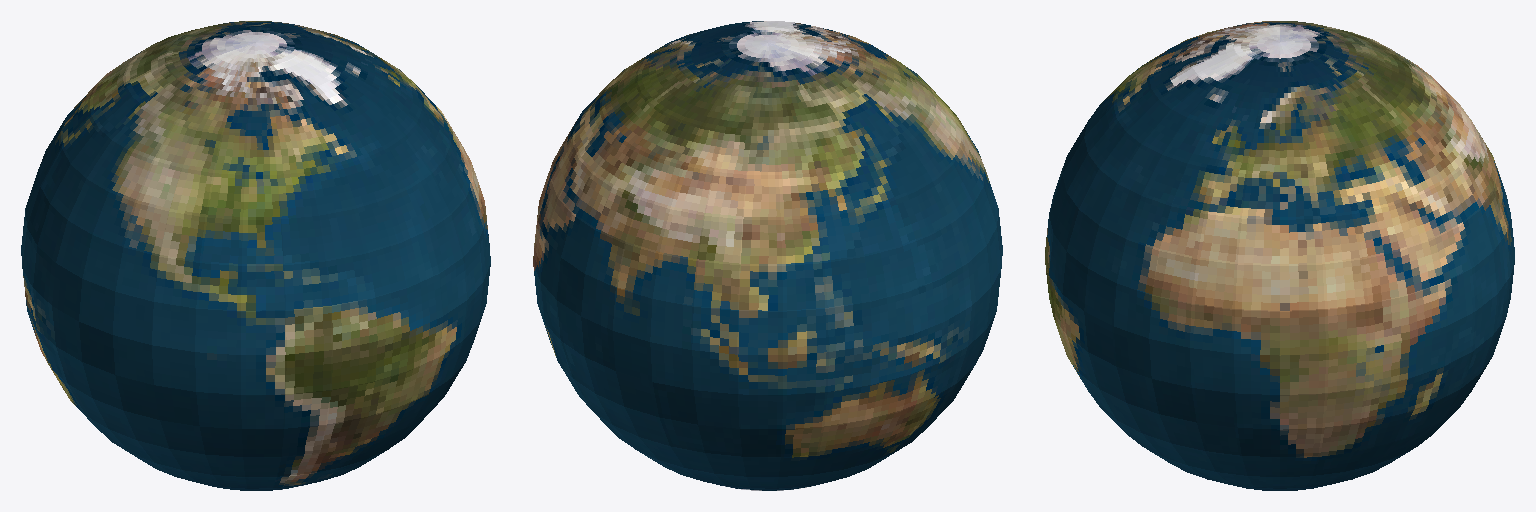
3 renders of one model, left to right at view 1: azimuth 30°, elevation 25°; view 2: azimuth 150°, elevation 25°; view 3: azimuth 270°, elevation 25°, orthographic.
Visible parts, largest first — view 1: Земля_Сфера.005; view 2: Земля_Сфера.005; view 3: Земля_Сфера.005.
Boxes of the visible parts, x1=… form: Земля_Сфера.005: x1=21, y1=21, x2=490, y2=490; Земля_Сфера.005: x1=533, y1=21, x2=1002, y2=490; Земля_Сфера.005: x1=1045, y1=21, x2=1514, y2=490.
Size of the model in its own units: 3.2 by 3.2 by 3.2.
Materials: 1 (1 with a texture image).